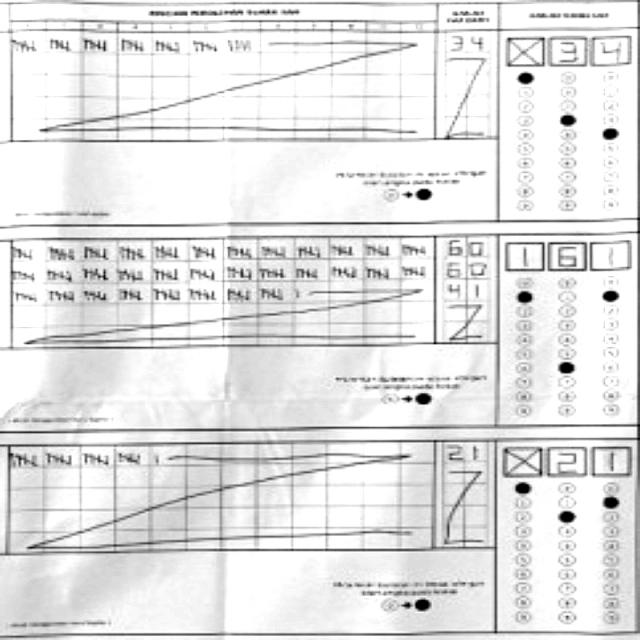Suara: (500, 236, 634, 278), (500, 439, 634, 481), (501, 30, 636, 71)
